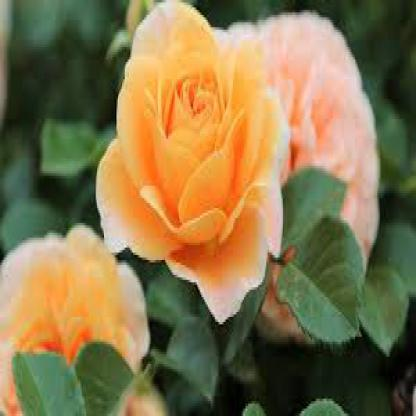Rose-Mawar: (93, 3, 385, 328)
